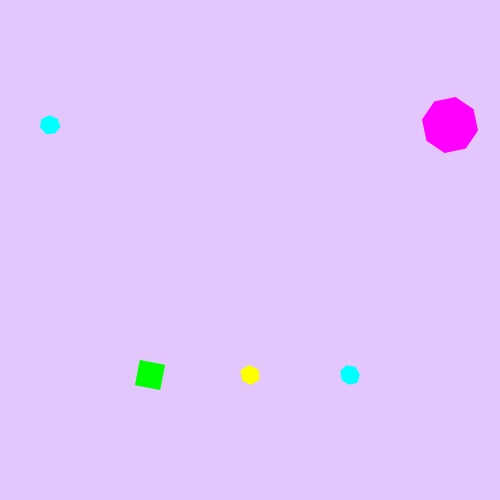heptagon: (36, 111, 65, 139), (336, 361, 365, 389)
hexagon: (235, 362, 265, 388)
octagon: (418, 93, 482, 157)
quadrilateral: (129, 354, 172, 397)
